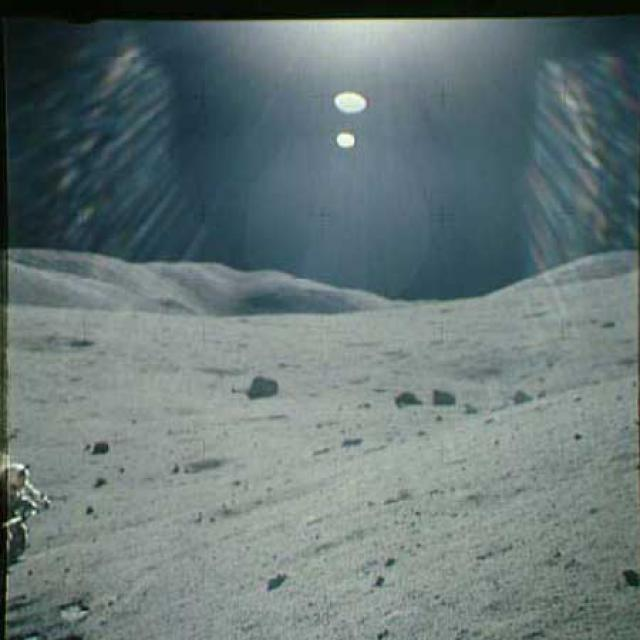crater: (0, 326, 100, 361), (152, 454, 229, 480)
rock: (240, 375, 285, 406), (424, 383, 458, 411), (387, 387, 422, 410), (503, 383, 531, 407), (86, 437, 112, 459)
